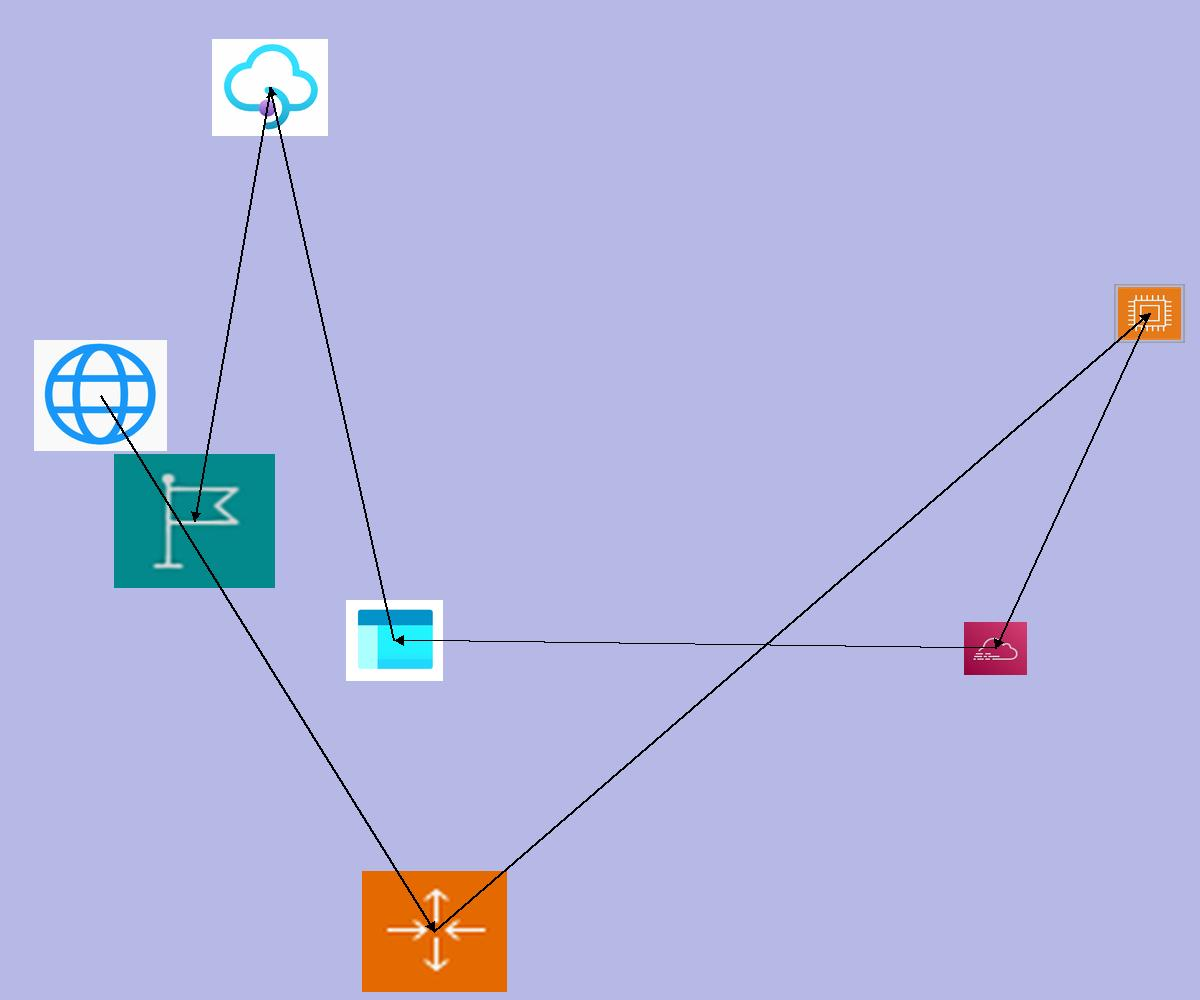AWS-Category_Compute: (1114, 284, 1185, 343)
AWS-CloudTrail: (964, 622, 1027, 675)
AWS-Region: (114, 454, 275, 588)
AWS-Scaling-group: (362, 871, 507, 992)
Azure_api_gateway: (212, 39, 328, 136)
Azure_http: (34, 340, 167, 451)
Azure_management-portal: (346, 600, 443, 681)
